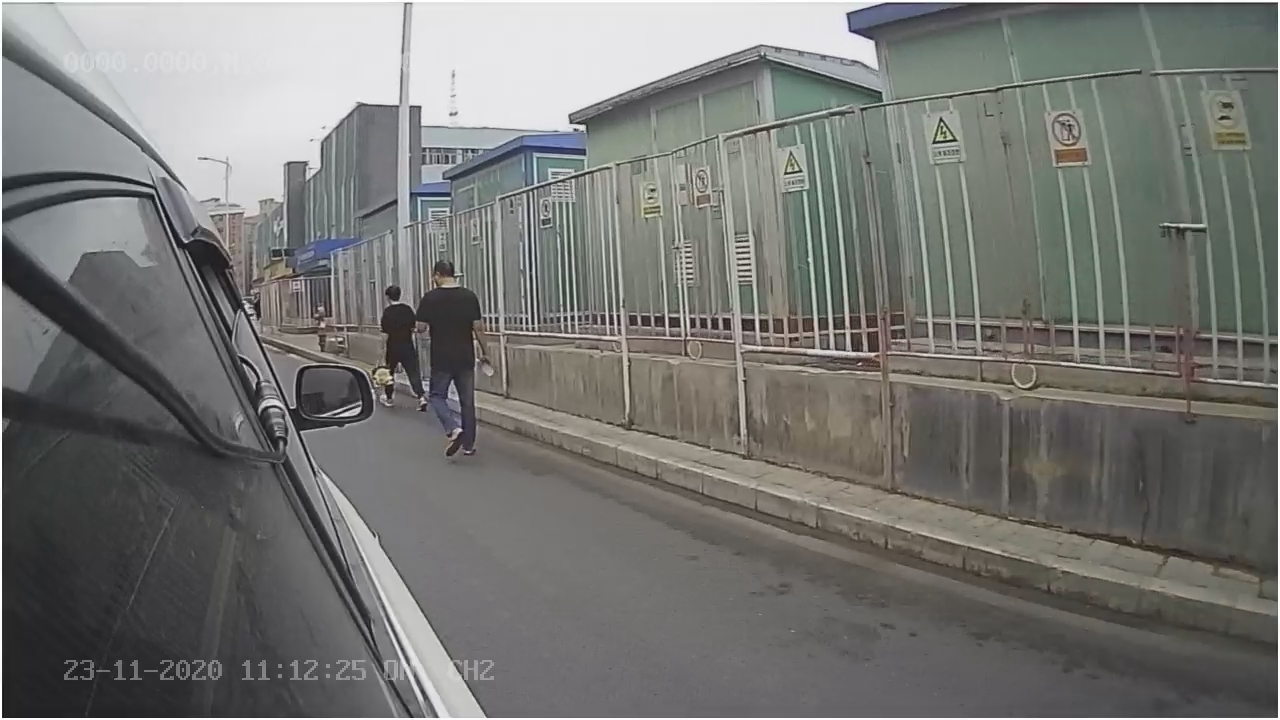person: (415, 259, 498, 463)
